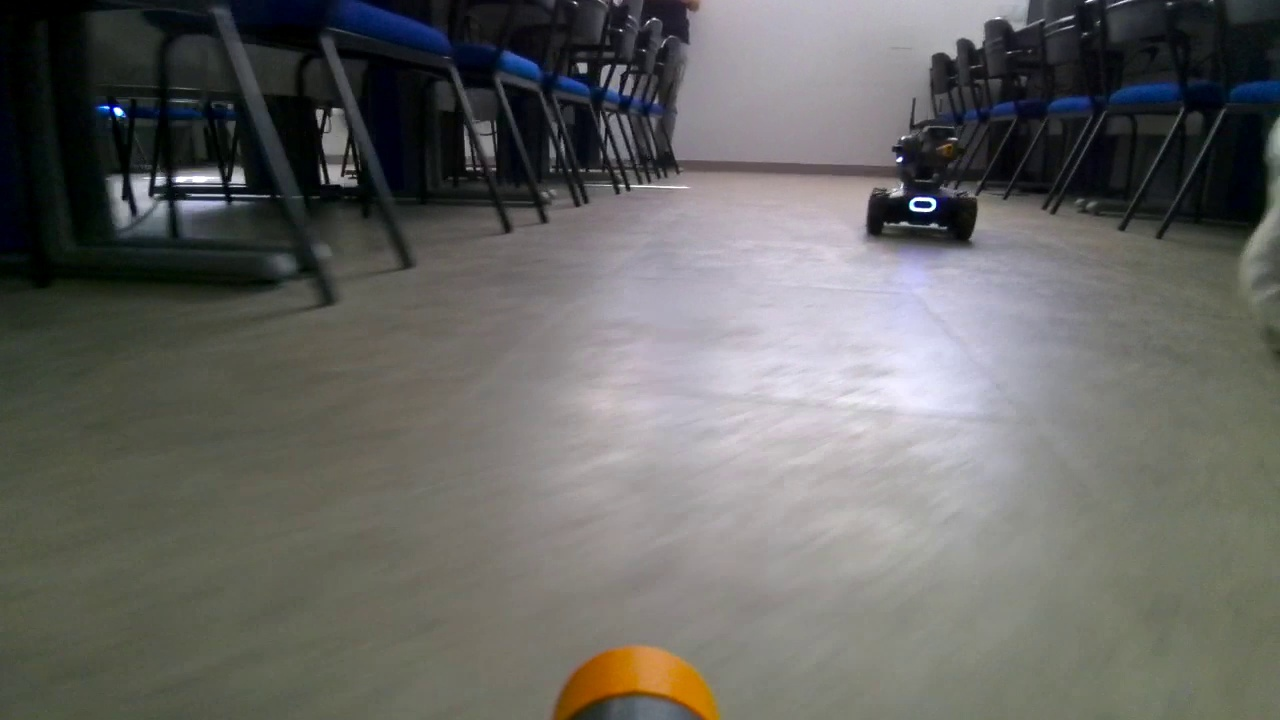robot: (859, 94, 989, 245)
